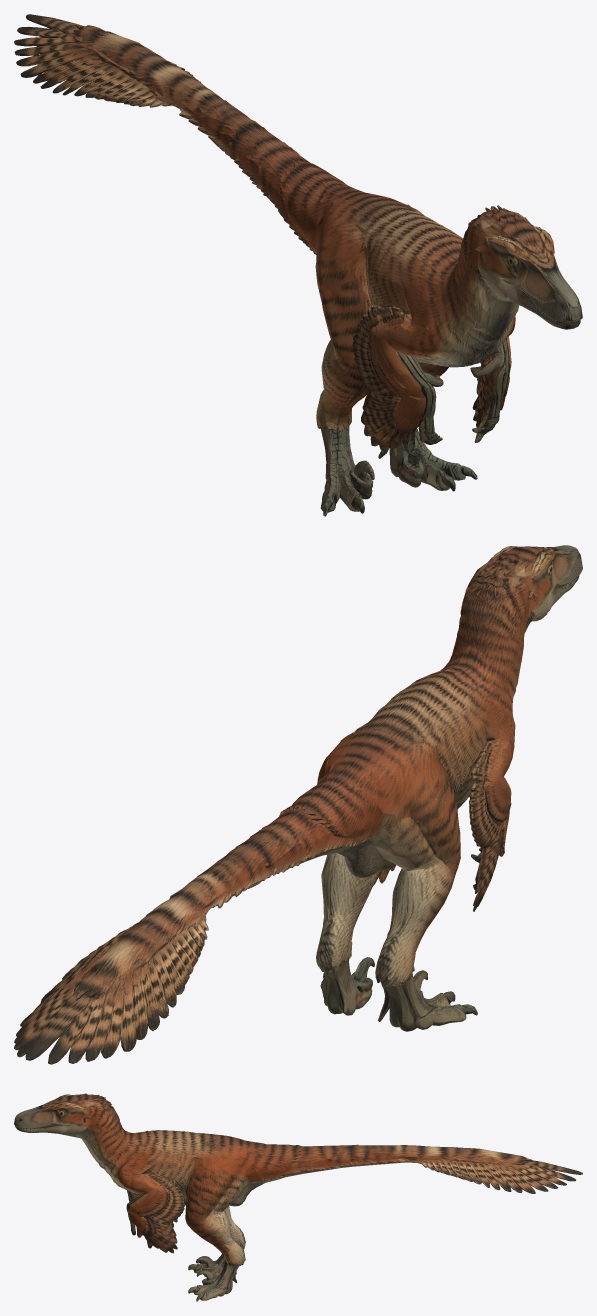
Rendered from velociraptor_i2m_v2.glb.
The picture shows the model from 3 angles, top to bottom: view 1: azimuth 30°, elevation 25°; view 2: azimuth 150°, elevation 25°; view 3: azimuth 270°, elevation 25°; orthographic projection. The views are drawn at different scales.
Visible parts, largest first — view 1: Mesh_0; view 2: Mesh_0; view 3: Mesh_0.
Part boxes in pixels (<box>): Mesh_0: <box>14,14,582,516</box>; Mesh_0: <box>14,545,582,1064</box>; Mesh_0: <box>14,1093,582,1301</box>.
Size of the model in its own units: 0.3085 by 0.6992 by 1.9.
Materials: 1 (1 with a texture image).
